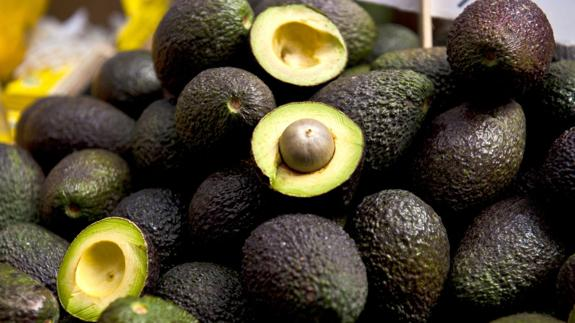fit_avocado: (415, 92, 535, 226), (443, 190, 575, 307), (239, 211, 371, 320), (353, 189, 448, 303), (452, 1, 558, 102), (148, 60, 274, 138), (21, 95, 135, 154), (156, 248, 241, 323), (191, 164, 263, 245), (129, 182, 199, 261)
